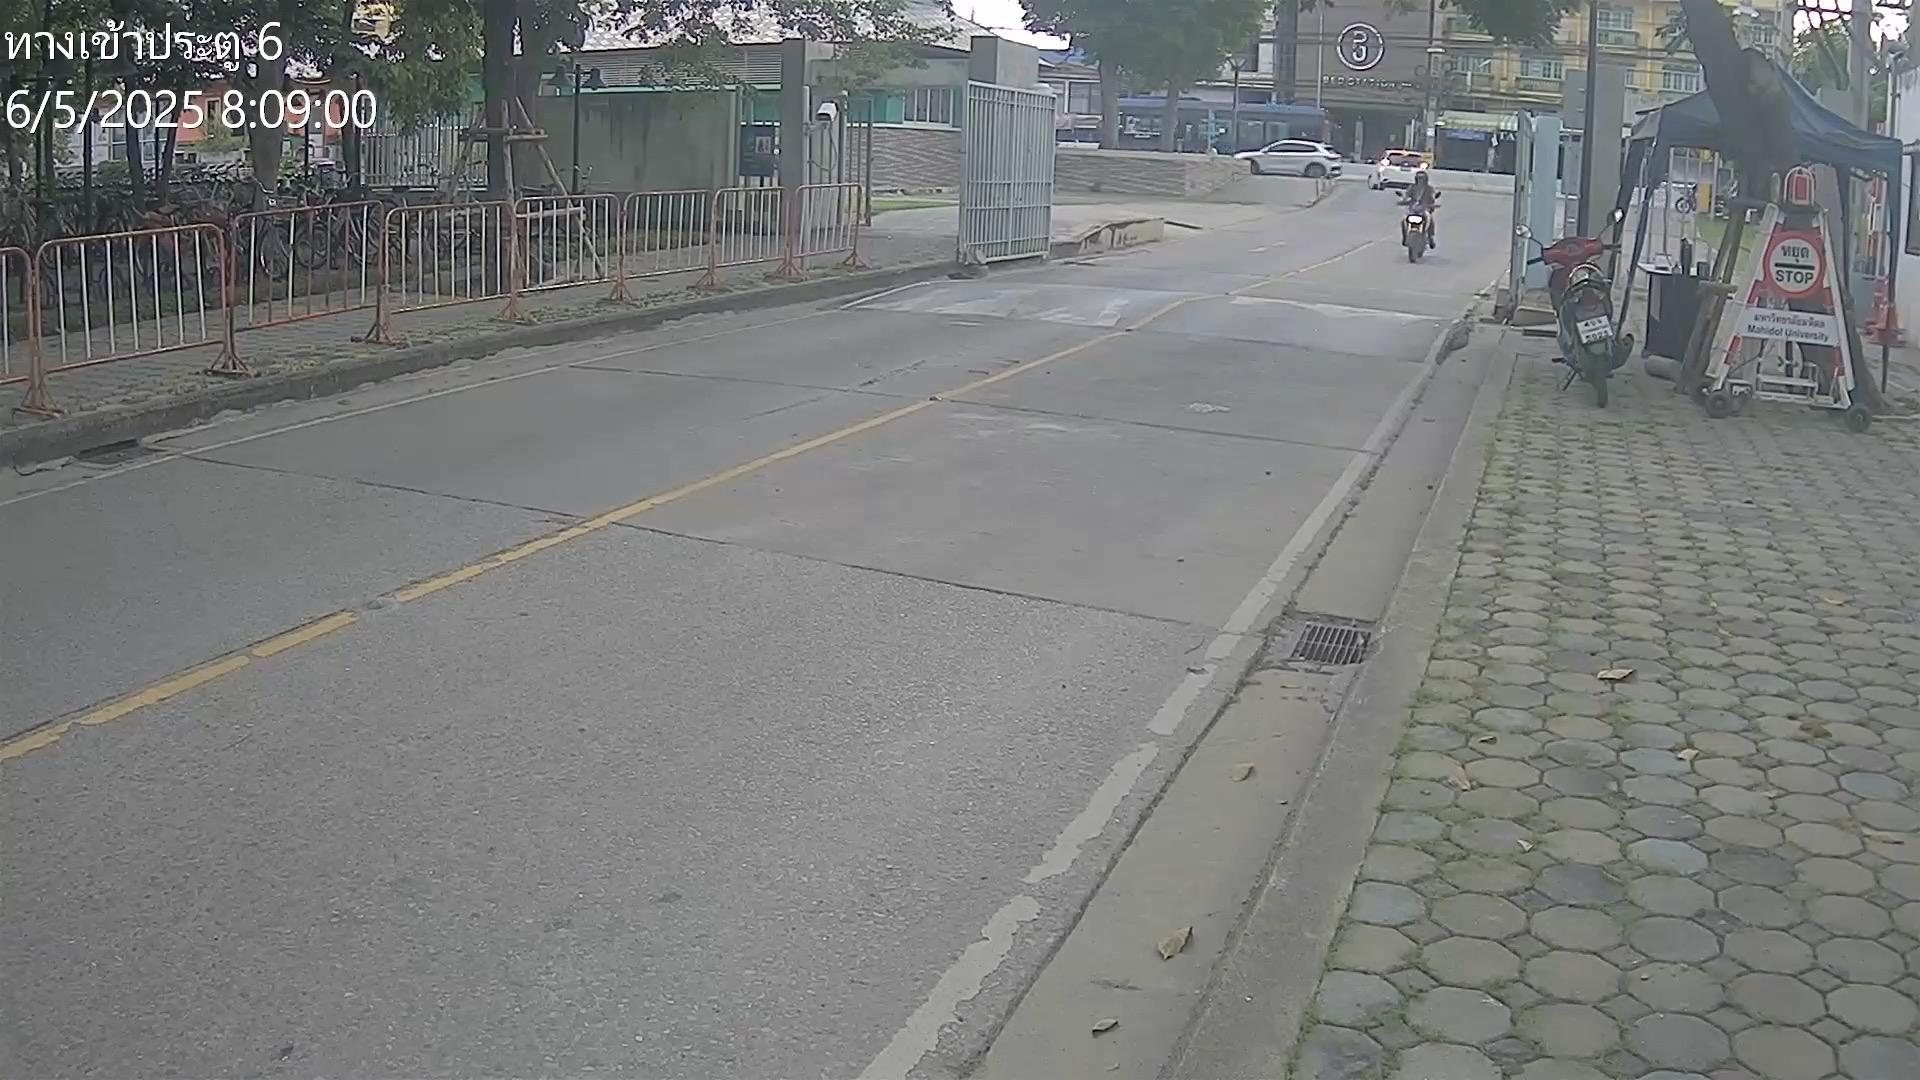With-Helmet: (1415, 171, 1428, 186)
